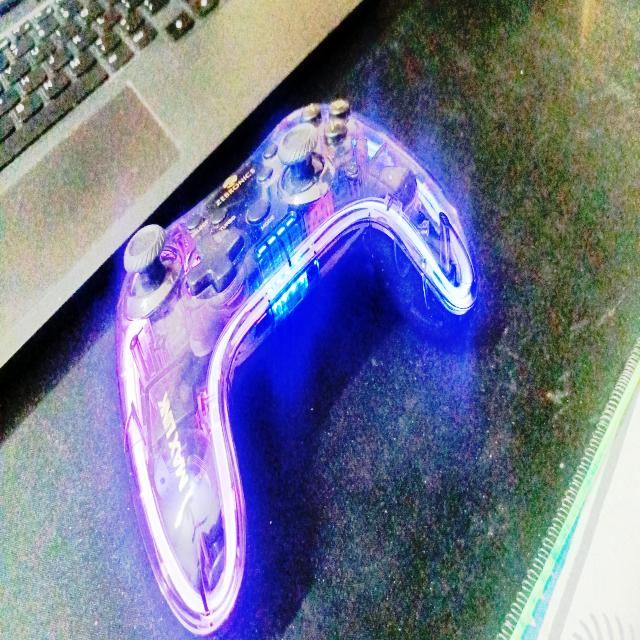gamepad: (113, 96, 481, 635)
